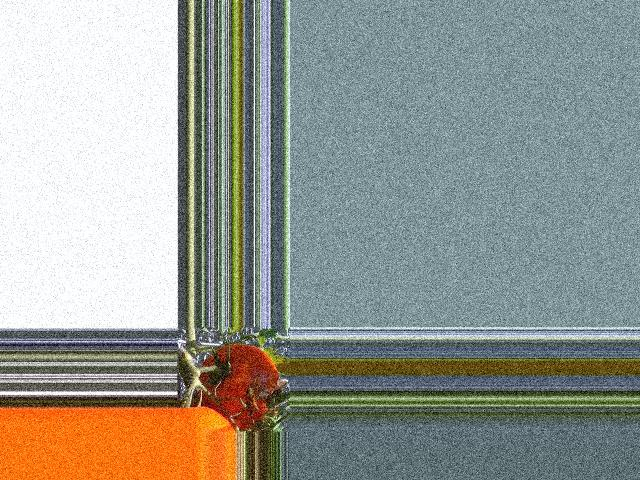tomato: (199, 343, 280, 430)
